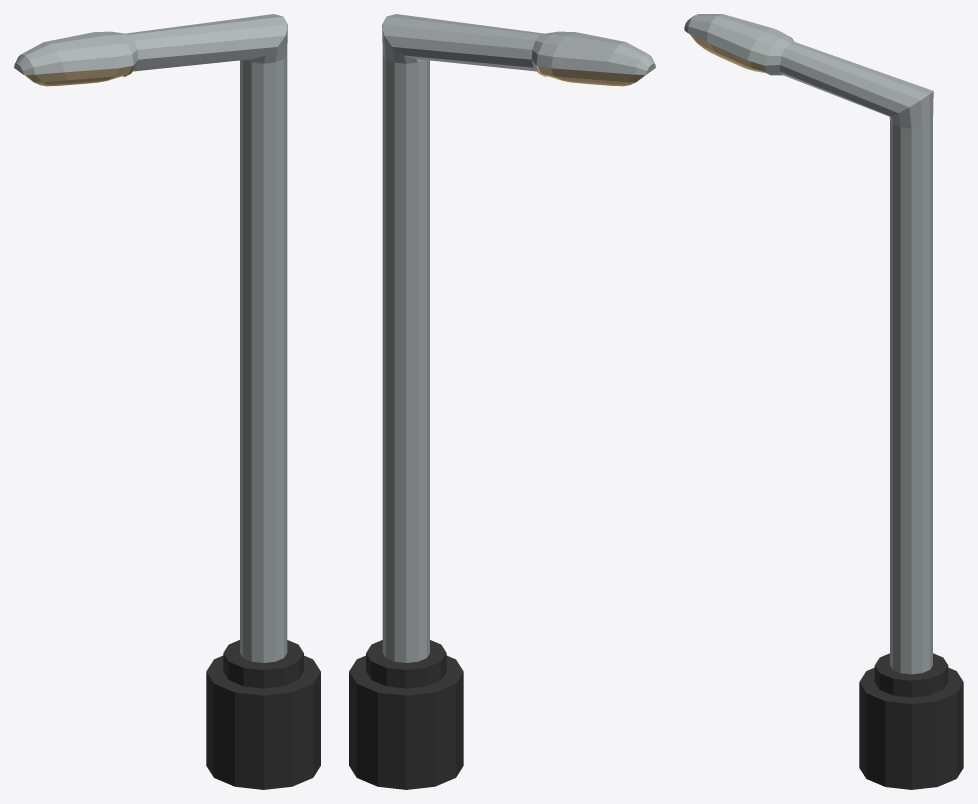
File: streetlamp.fbx
3 renders of one model, left to right at view 1: azimuth 30°, elevation 25°; view 2: azimuth 150°, elevation 25°; view 3: azimuth 330°, elevation 25°, orthographic. The views are drawn at different scales.
Visible parts, largest first — view 1: Cylinder; view 2: Cylinder; view 3: Cylinder.
Boxes of the visible parts, <box> form: Cylinder: <box>14,14,320,789</box>; Cylinder: <box>349,14,655,789</box>; Cylinder: <box>684,14,963,789</box>.
Bounding box in the file's own units: 1.99 × 5 × 0.6711.
1 material, 1 textured.
